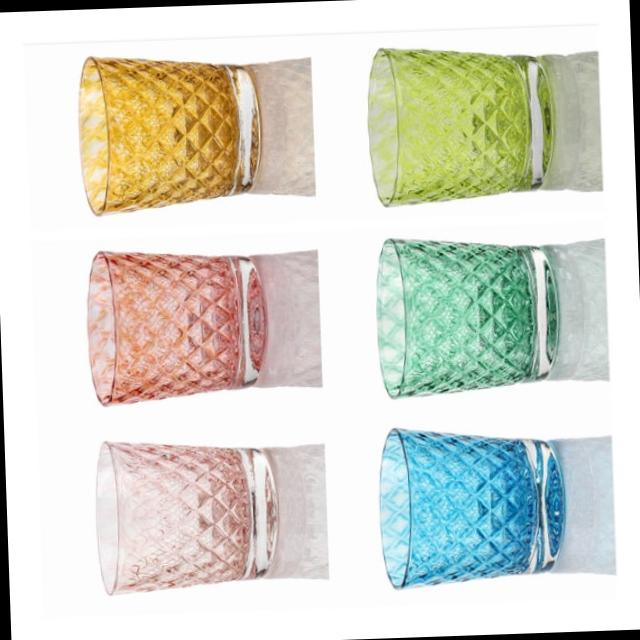glass: (21, 26, 292, 224), (40, 412, 309, 609), (30, 212, 289, 413), (337, 209, 590, 405), (342, 410, 575, 599), (331, 23, 566, 210)
